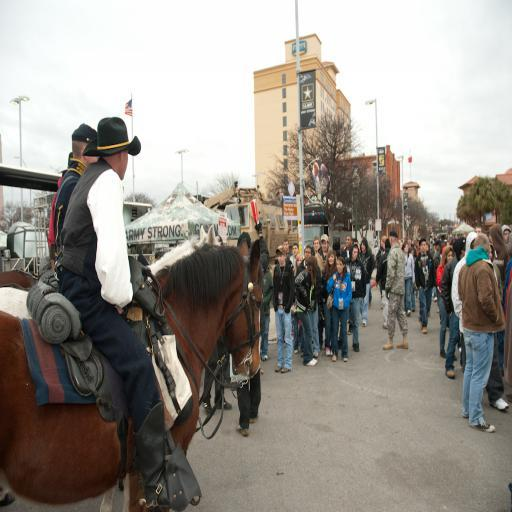Horse: (0, 237, 265, 511), (0, 220, 222, 512), (0, 270, 37, 295)
